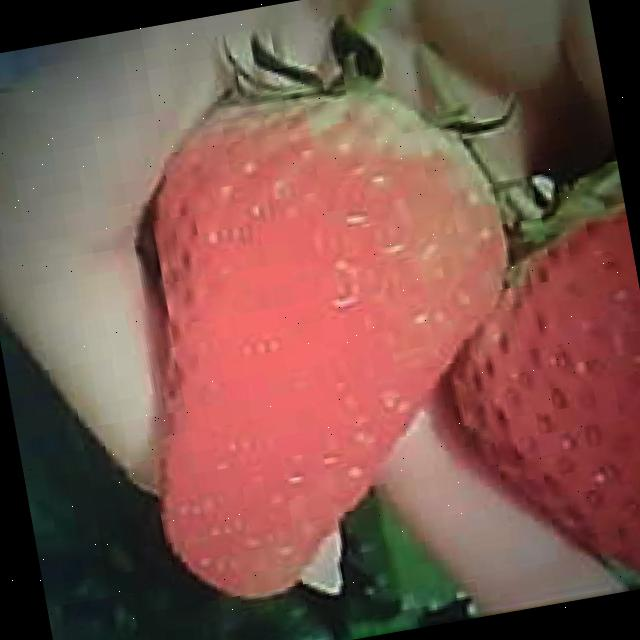strawberry: (90, 59, 560, 612)
